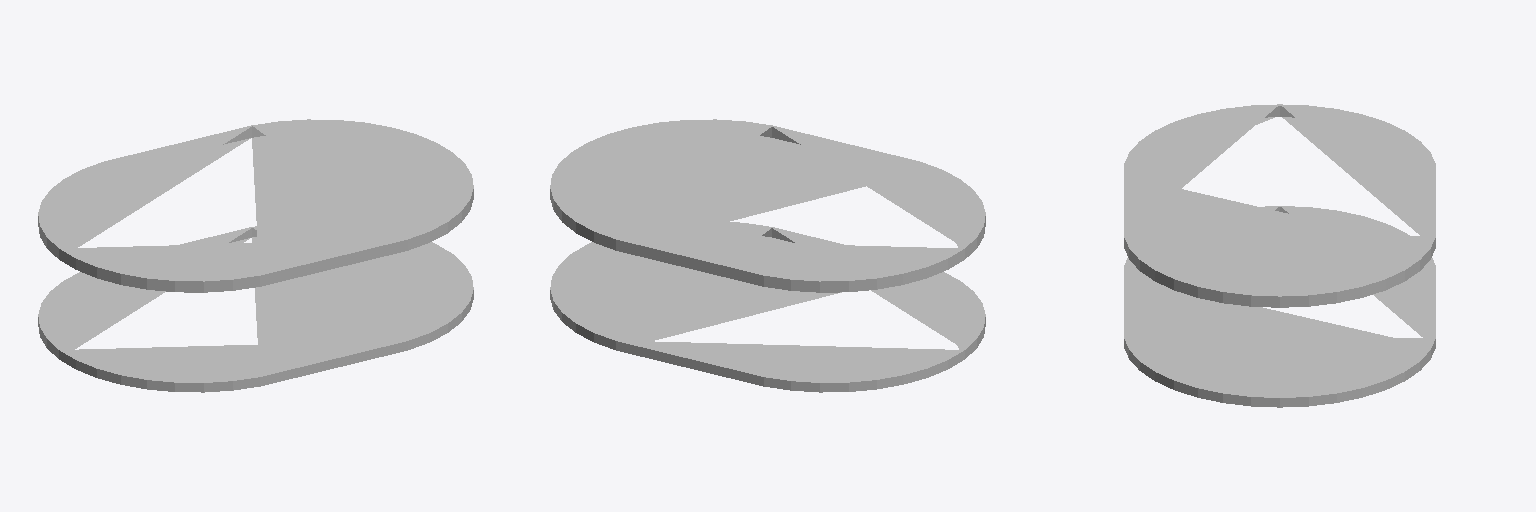
File: ROOM_WALL_LAMP.obj
3 views of the same model, side by side, from view 1: azimuth 30°, elevation 25°; view 2: azimuth 150°, elevation 25°; view 3: azimuth 270°, elevation 25° (orthographic).
Visible parts, largest first — view 1: lighting_wall_Circle.011; view 2: lighting_wall_Circle.011; view 3: lighting_wall_Circle.011.
Part boxes in pixels (bbox=[...]): lighting_wall_Circle.011: bbox=[38, 119, 473, 392]; lighting_wall_Circle.011: bbox=[550, 119, 985, 392]; lighting_wall_Circle.011: bbox=[1124, 104, 1435, 407].
Size of the model in its own units: 20.51 by 5.52 by 14.07.